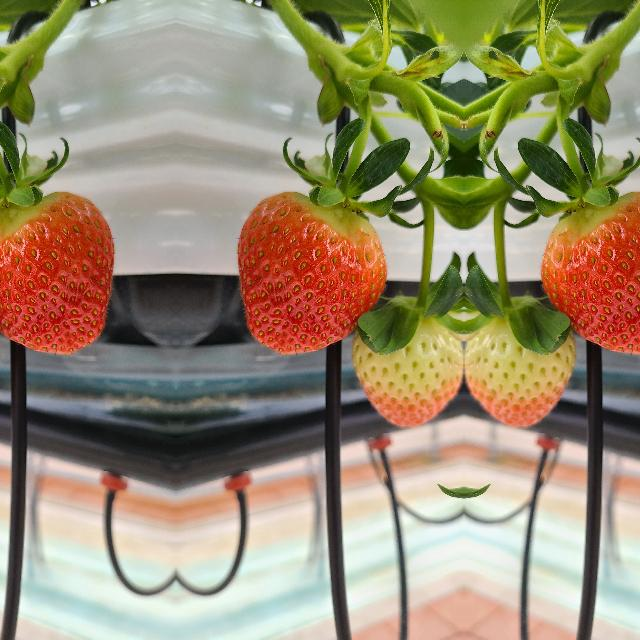Health_100: (235, 191, 387, 357), (0, 191, 115, 357), (539, 191, 640, 357)
Health_50: (464, 291, 576, 429), (351, 291, 462, 429)
